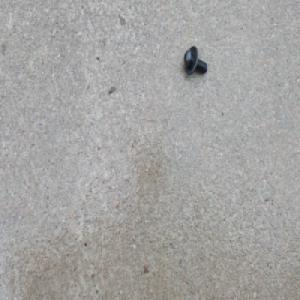BoltWasher: (183, 44, 207, 76)
